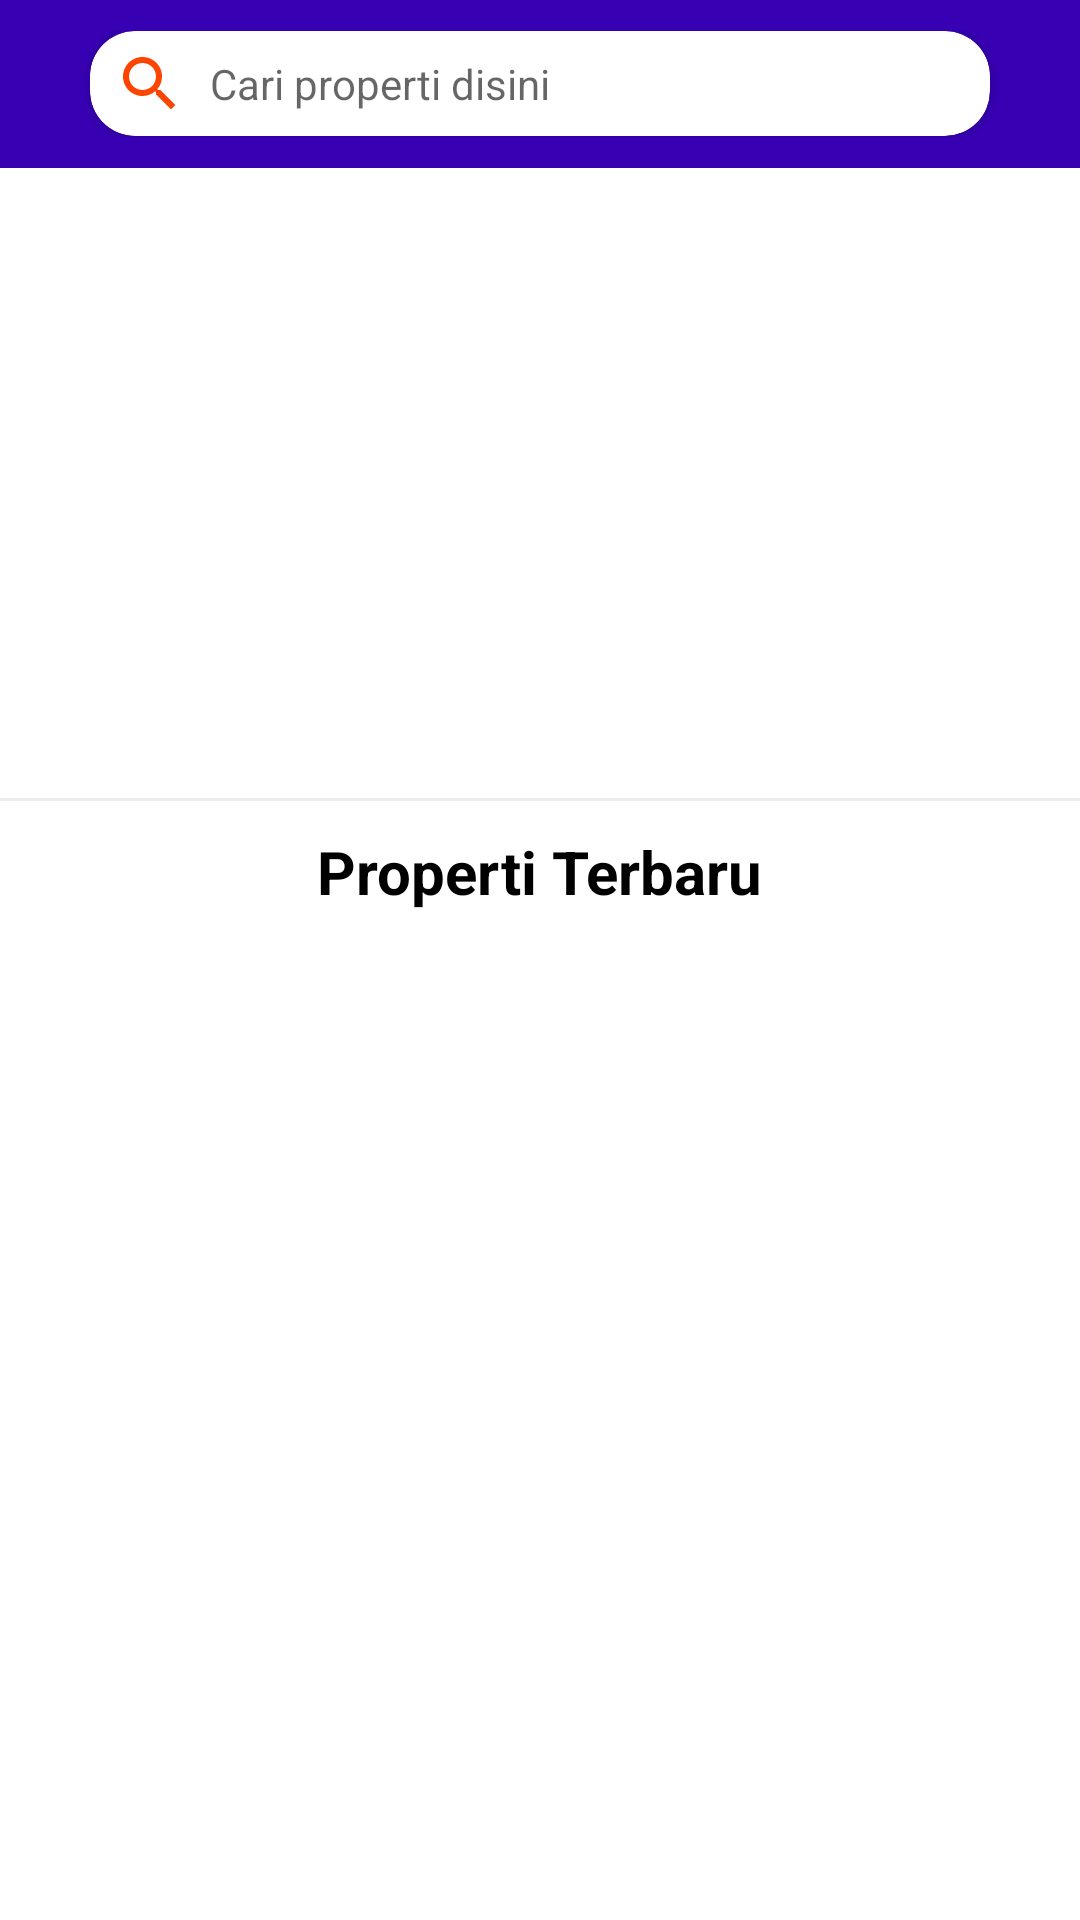

Icons on this 1080×1920 Android screen, each with the point to tap as [x,y]:
search: [150,83]
